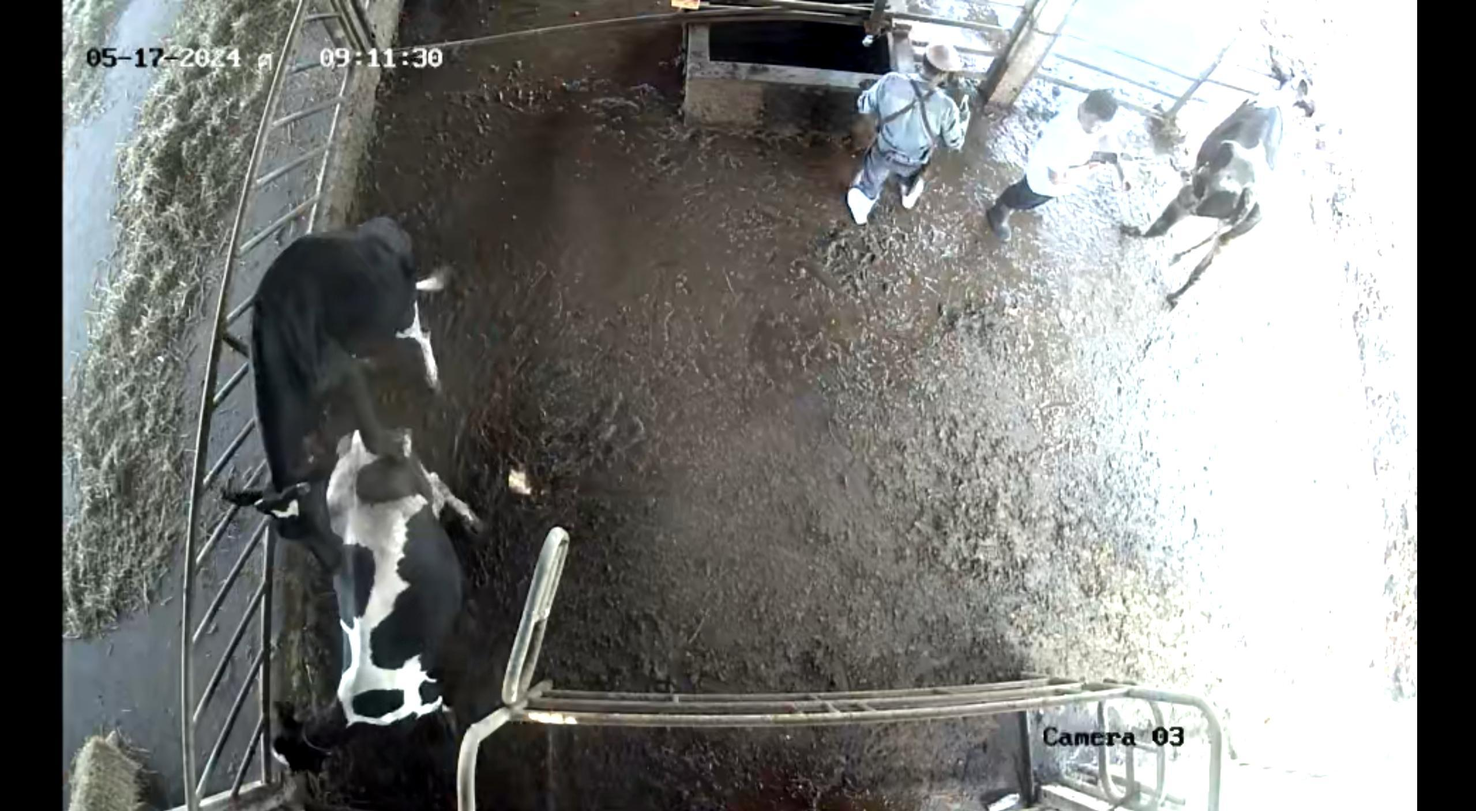ride: (225, 208, 471, 578)
stand: (261, 431, 483, 776), (1127, 40, 1323, 327)
